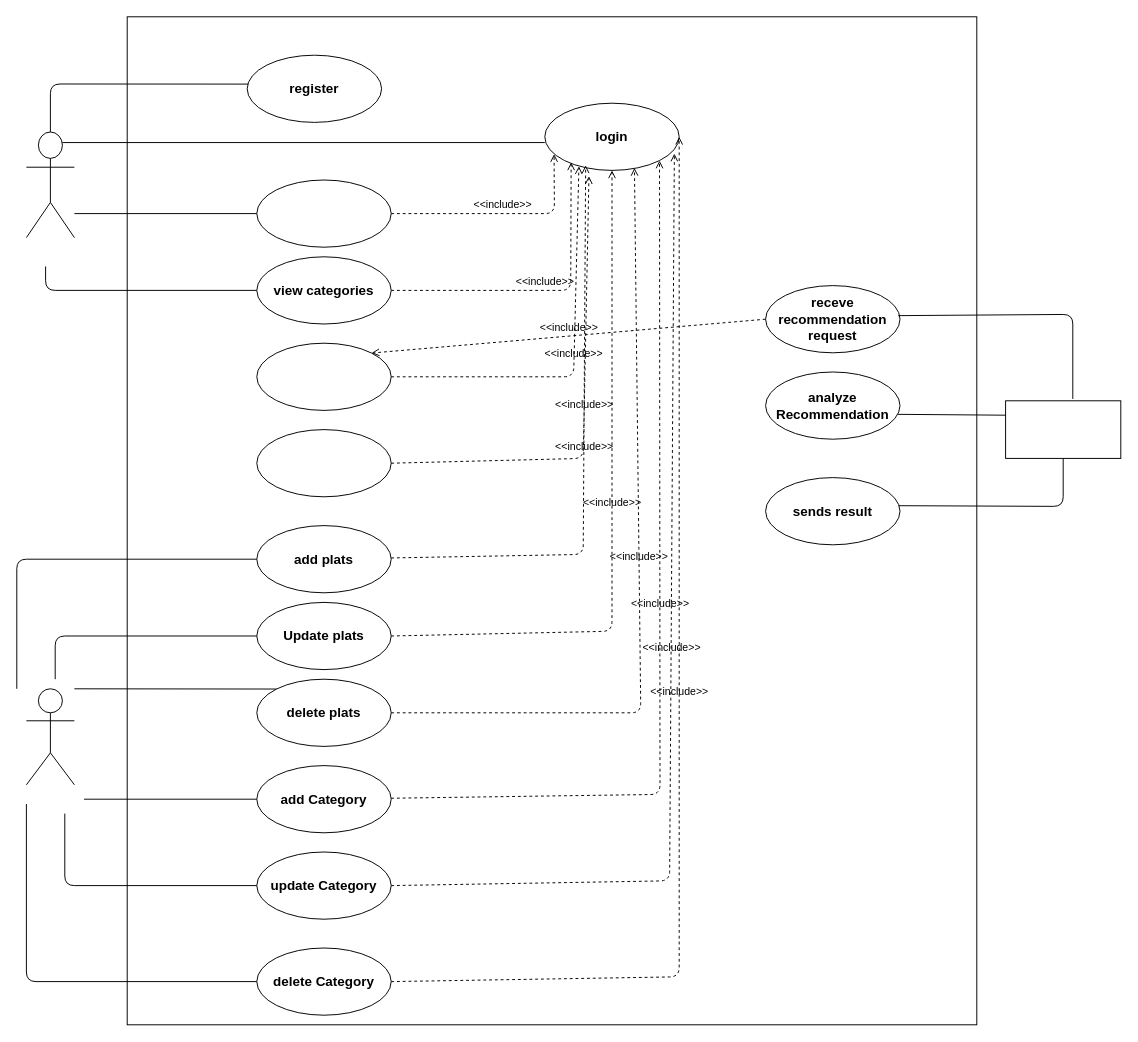
This 1138x1042 diagram has some shape labels left out. The centre of each missing label's shape, as x and y in pixels:
"Admin" goes at [49,736].
"AI System" goes at [1063,429].
"Request Recommendation" goes at [323,376].
"User" goes at [49,184].
"views plats" goes at [323,213].
"views Recommendation result" goes at [323,463].
